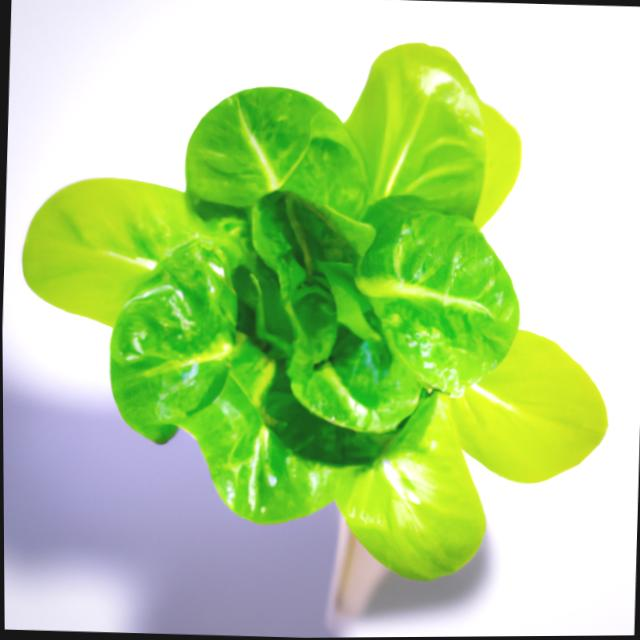-N: (7, 17, 628, 600)
